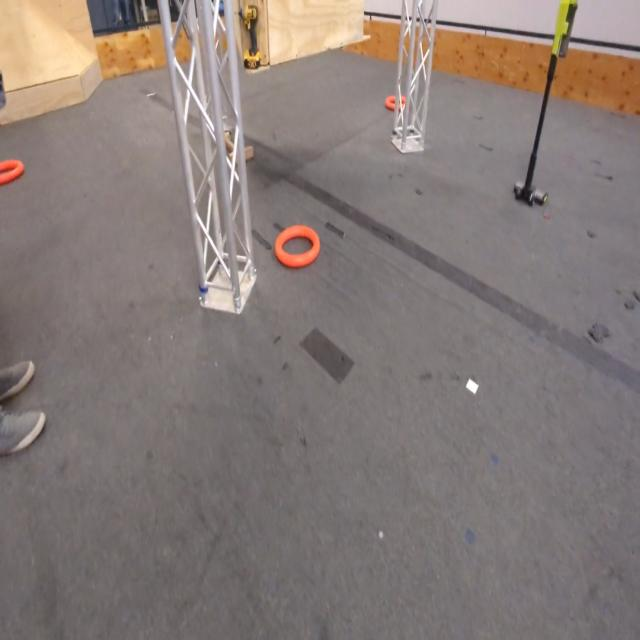note: (274, 225, 320, 269), (0, 160, 24, 190), (385, 91, 410, 112)
